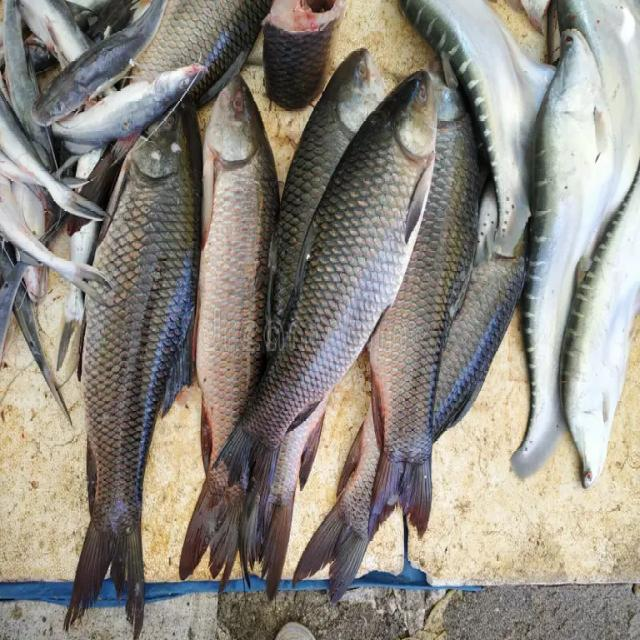Rohu: (210, 71, 436, 529)
